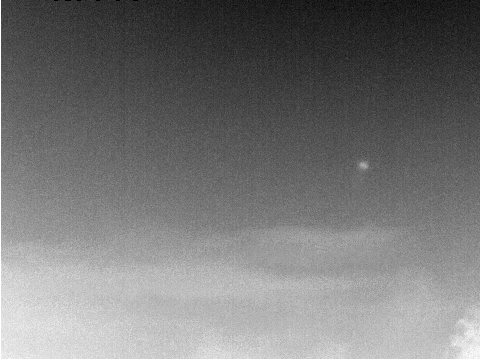dim target: (358, 161, 369, 170)
